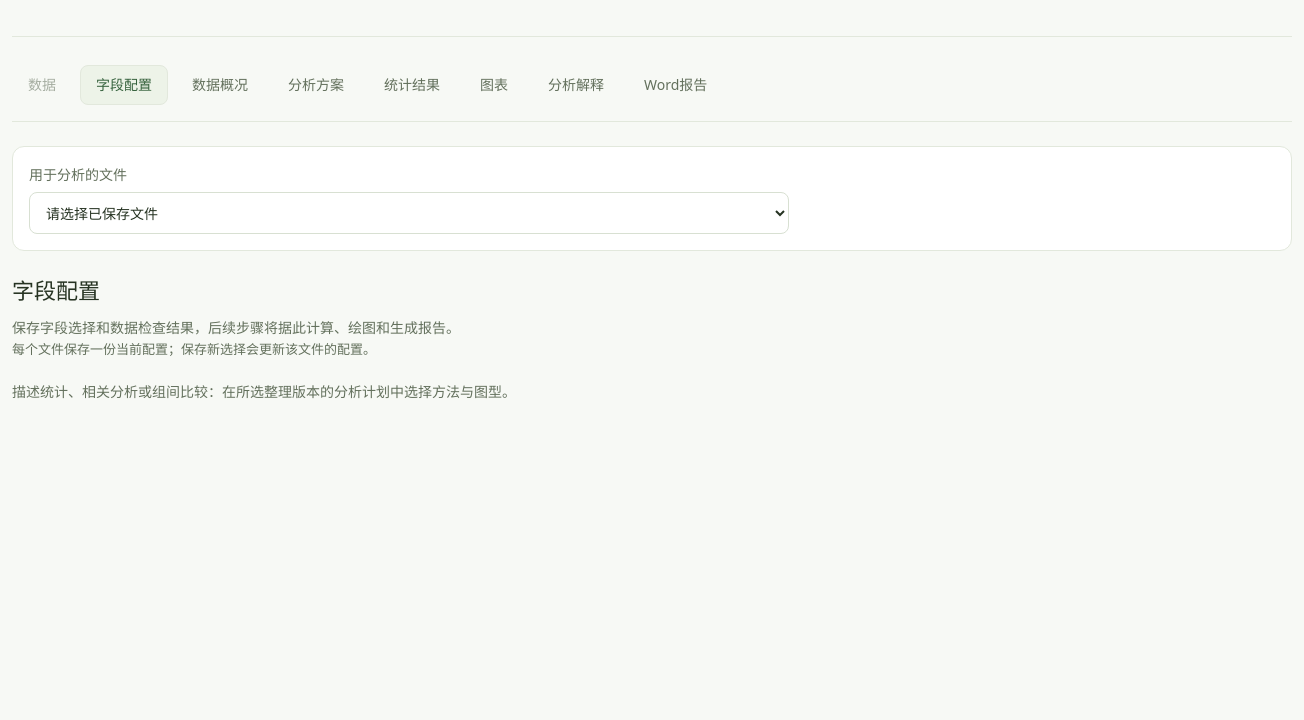
Scenario: restored statistics expose an explicit OpenAI generation action without submitting
The width and height of the screenshot is (1304, 720).
Select "研究.xlsx · 2026/9/29 01:00:00" in the dropdown labelled "用于分析的文件": (409, 213) [29,192,789,234]
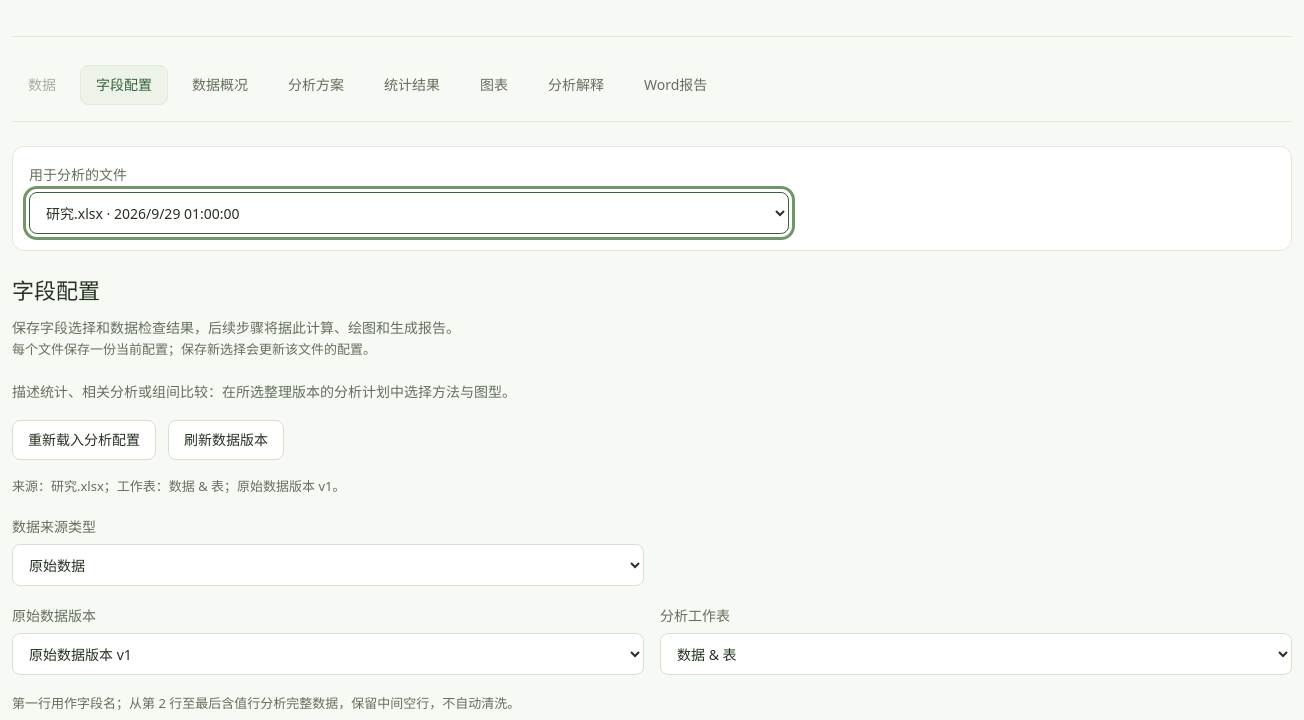
Click the button "图表": (494, 85) [464,65,524,105]
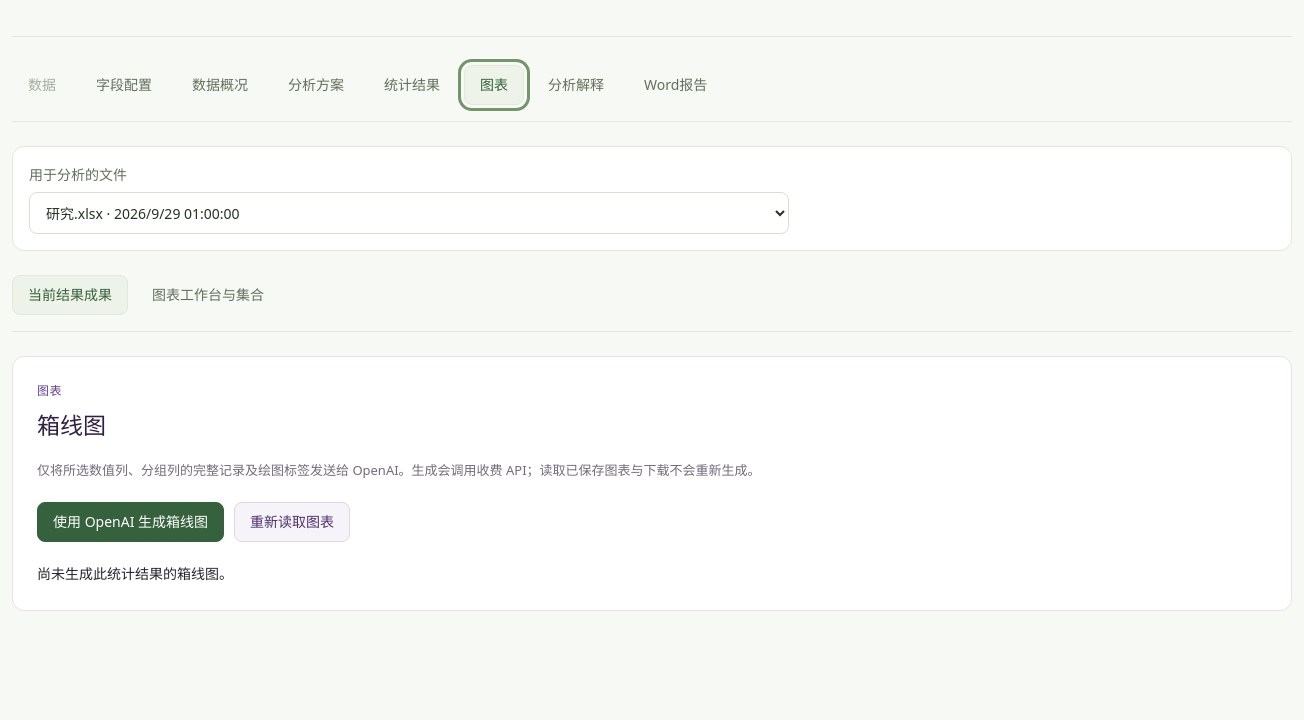
Expected: the button "使用 OpenAI 生成箱线图" is shown, [37,502,224,542]
